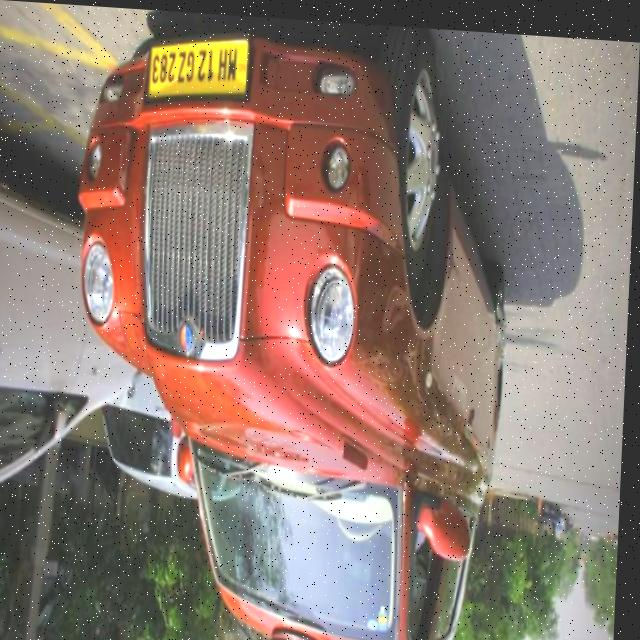plate: (147, 30, 254, 104)
